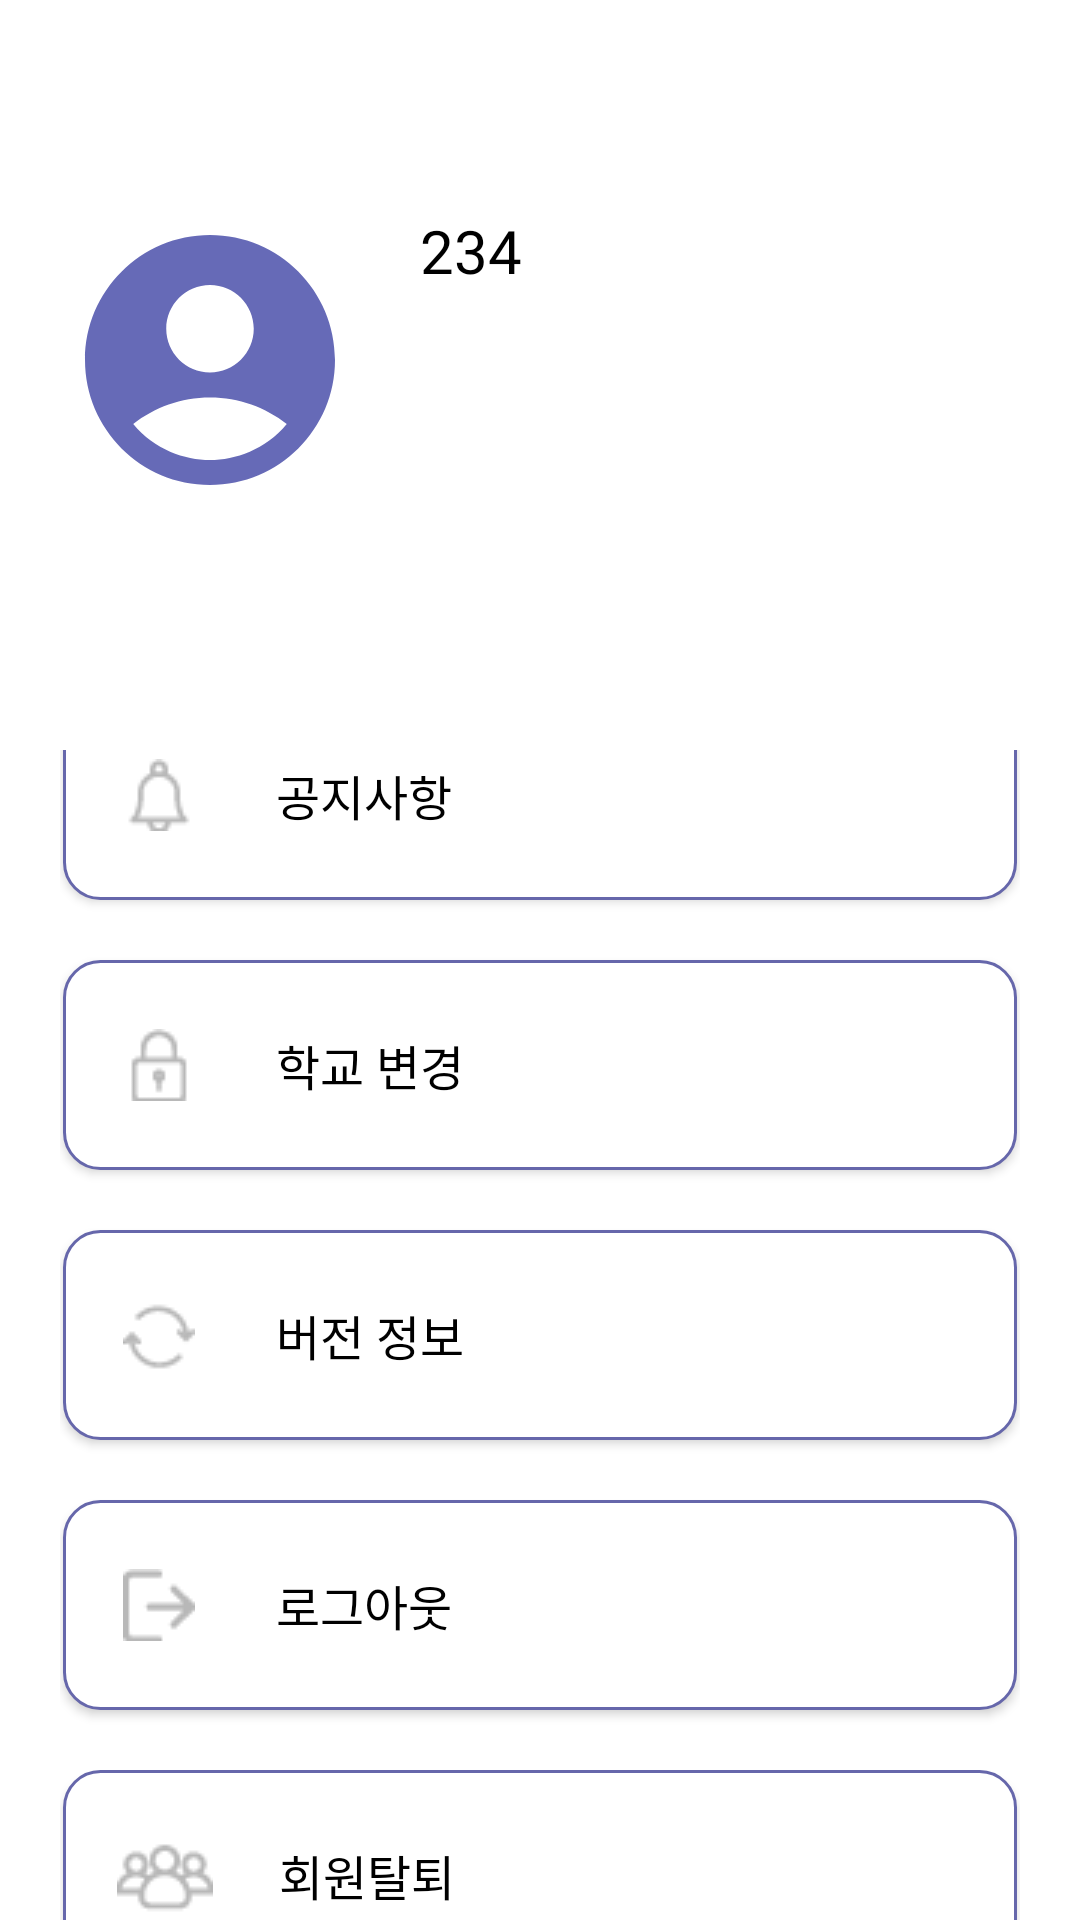

Point at icon controls on the screen. Image size 1080w x 1920h, points as (x=x, y=y).
user: (x=210, y=360)
